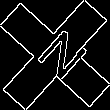N_SW: (23, 23, 87, 87)
